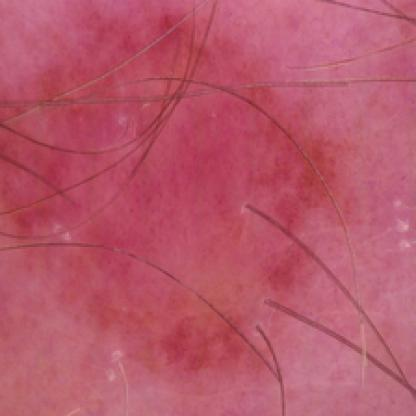benign: (24, 41, 349, 317)
